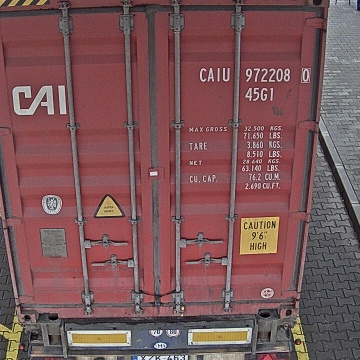serial_id: (199, 67, 309, 82)
